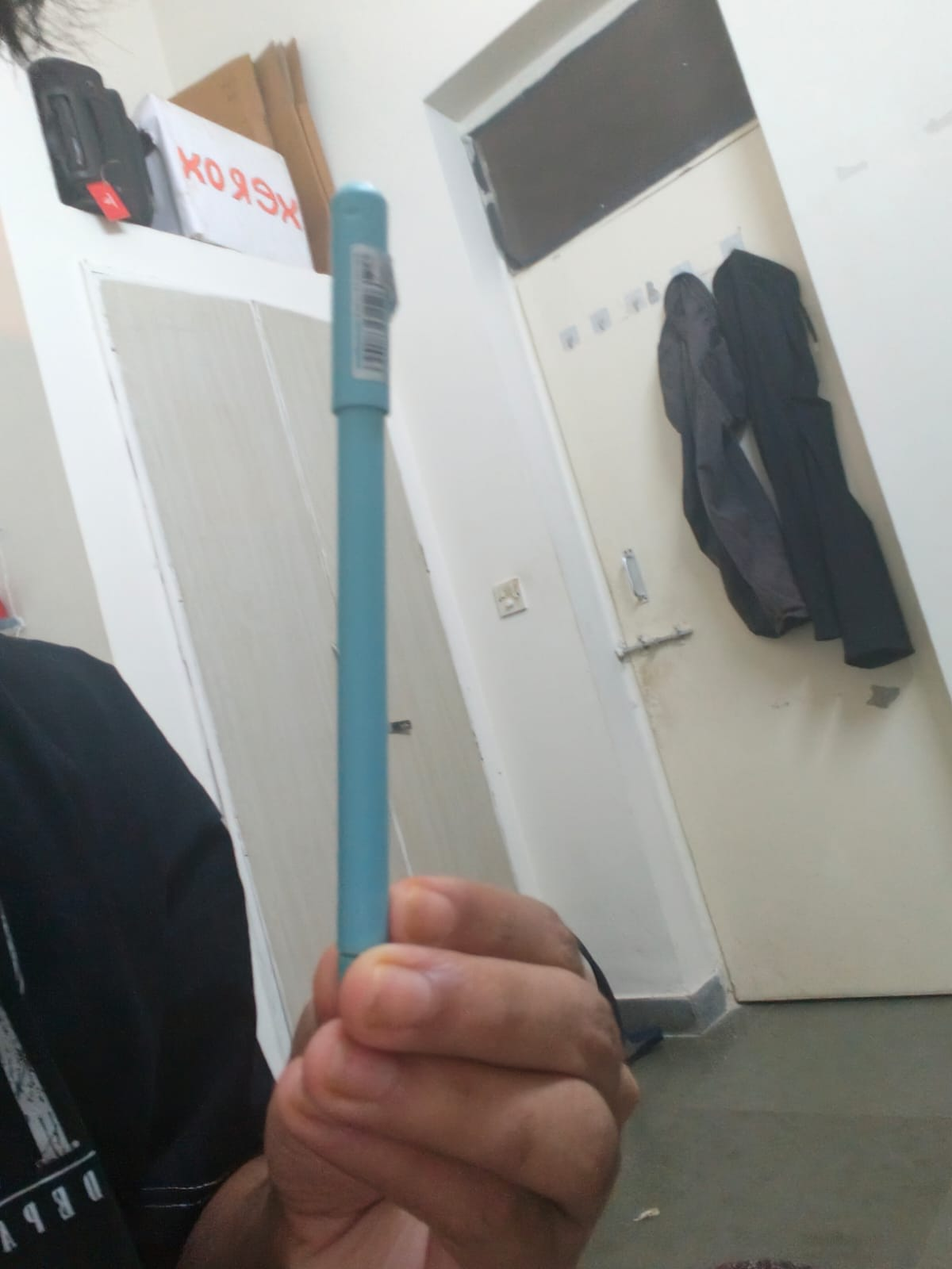pen: (273, 169, 455, 973)
